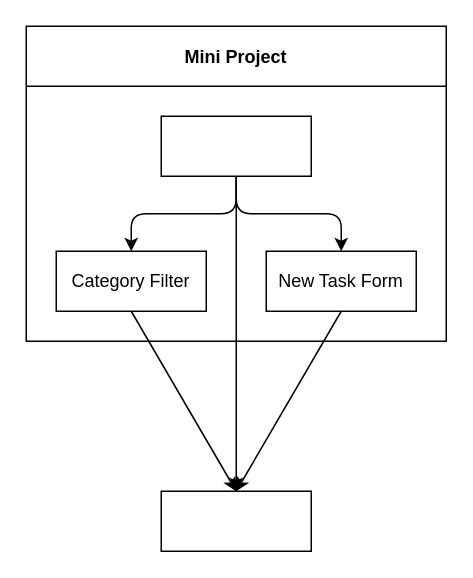
Some shapes in this 473 by 578 pixel diagram are drawn without their labels. Here are the shapes that lost their labels. From the top down, the centre of each, then its label:
At point (235, 145): "App".
At point (235, 520): "Task List".
